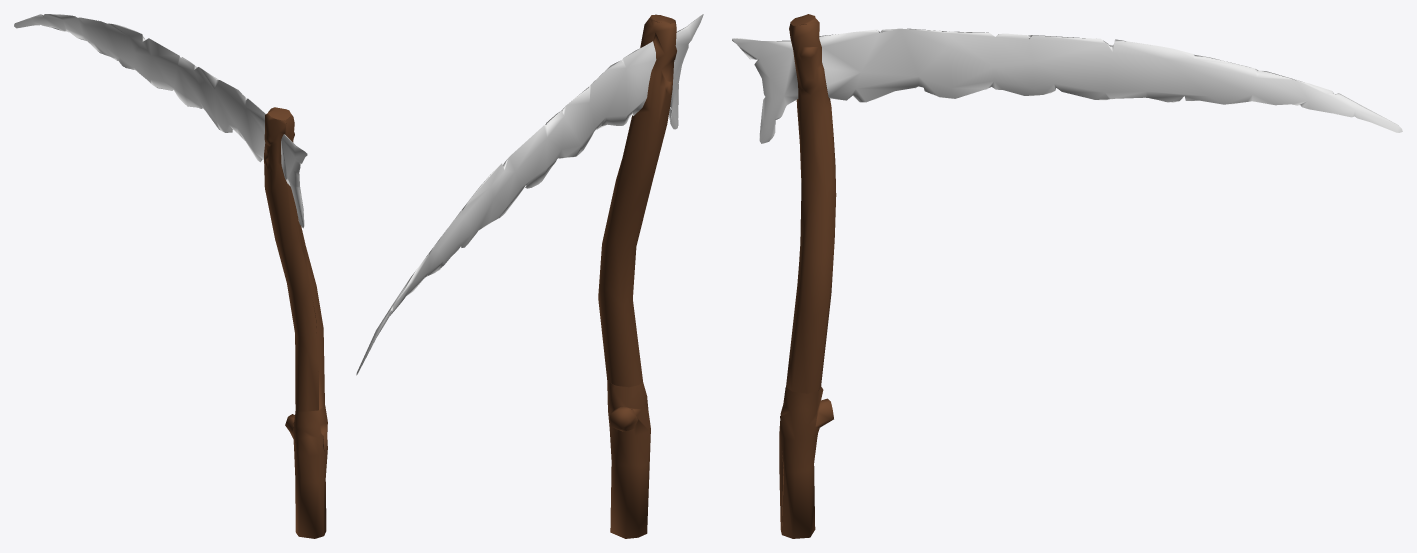
Rendered from scythe edited.fbx.
The picture shows the model from 3 angles, left to right: view 1: azimuth 30°, elevation 25°; view 2: azimuth 150°, elevation 25°; view 3: azimuth 270°, elevation 25°; orthographic projection. The views are drawn at different scales.
Visible parts, largest first — view 1: Scythe; view 2: Scythe; view 3: Scythe.
Boxes of the visible parts, <box> form: Scythe: <box>14,14,327,538</box>; Scythe: <box>356,14,703,538</box>; Scythe: <box>732,14,1402,538</box>.
Size of the model in its own units: 33.41 by 231 by 282.
